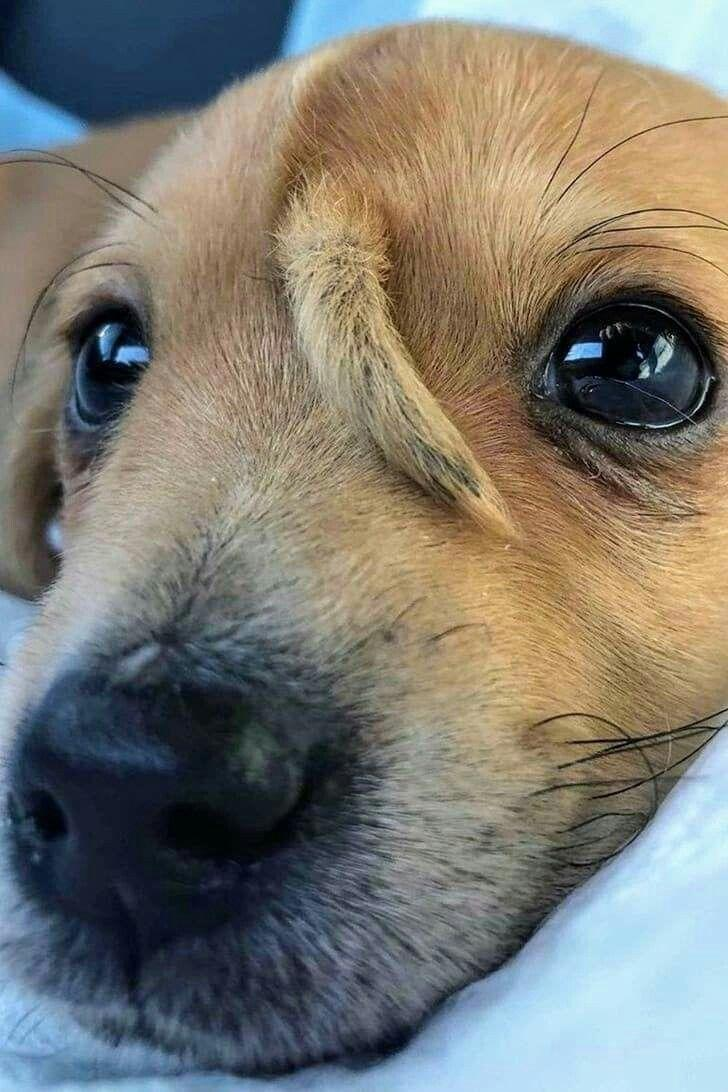puppy-dog: (0, 19, 727, 1081)
